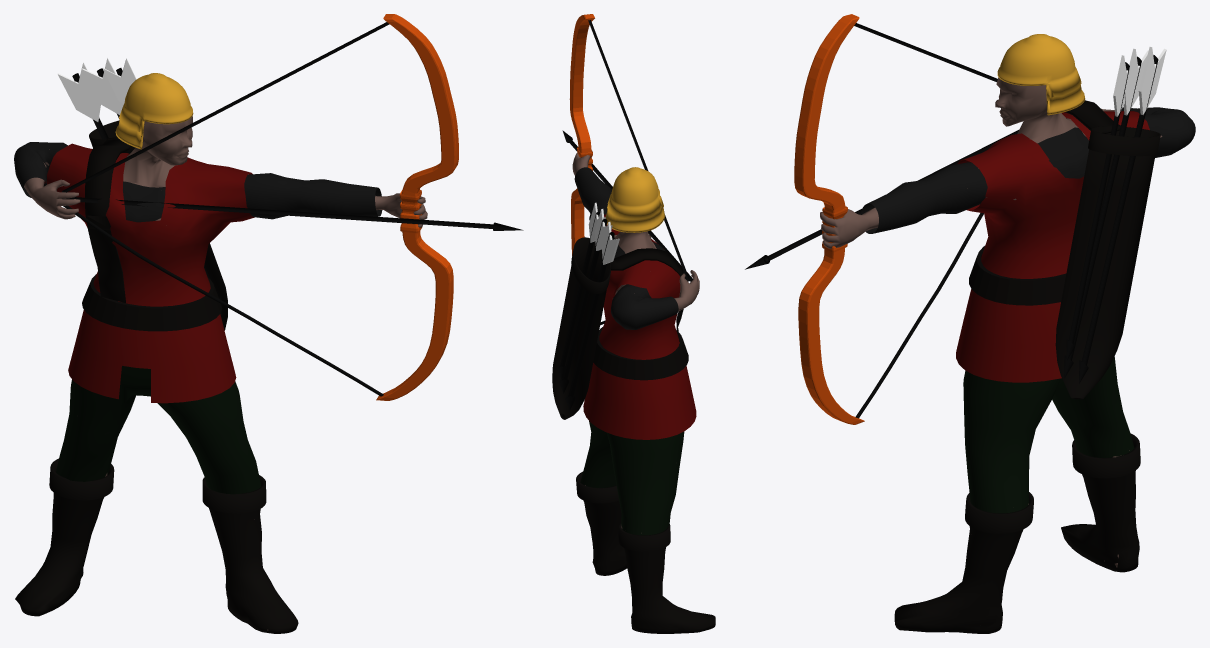
Rendered from archer7.obj.
3 views of the same model, side by side, from view 1: azimuth 30°, elevation 25°; view 2: azimuth 150°, elevation 25°; view 3: azimuth 270°, elevation 25° (orthographic). The views are drawn at different scales.
Parts seen in each view (by area): view 1: jacket_Circle.003_jacket, pants_Circle.002_pants, Cylinder_Cylinder_bow, boot_left_Circle.001_boot, boot_right_Circle_boot, Human.000_body.000_skin, Circle.004_Circle.004_armor, Plane.002_Plane.004_boot, Circle.006_Circle.006_boot, Circle.007_Circle.007_helmet, Cylinder.003_Cylinder.003_arrow, Circle.005_Circle.005_armor (+6 smaller); view 2: jacket_Circle.003_jacket, pants_Circle.002_pants, boot_right_Circle_boot, Circle.008_Circle.008_boot, Circle.007_Circle.007_helmet, boot_left_Circle.001_boot, Cylinder_Cylinder_bow, Circle.006_Circle.006_boot, Circle.005_Circle.005_armor, Human.000_body.000_skin, Circle.004_Circle.004_armor, Plane.002_Plane.004_boot (+8 smaller); view 3: jacket_Circle.003_jacket, pants_Circle.002_pants, Circle.008_Circle.008_boot, Cylinder_Cylinder_bow, boot_left_Circle.001_boot, boot_right_Circle_boot, Circle.004_Circle.004_armor, Human.000_body.000_skin, Circle.007_Circle.007_helmet, Circle.006_Circle.006_boot, Circle.005_Circle.005_armor, Cylinder.004_Cylinder.004_arrow (+9 smaller).
Boxes of the visible parts, x1,y1,x2,y2 form: jacket_Circle.003_jacket: [44, 143, 254, 403]; pants_Circle.002_pants: [56, 366, 261, 494]; Cylinder_Cylinder_bow: [376, 14, 458, 400]; boot_left_Circle.001_boot: [202, 475, 298, 633]; boot_right_Circle_boot: [15, 458, 114, 616]; Human.000_body.000_skin: [24, 116, 427, 630]; Circle.004_Circle.004_armor: [244, 173, 382, 219]; Plane.002_Plane.004_boot: [85, 137, 130, 302]; Circle.006_Circle.006_boot: [82, 274, 222, 331]; Circle.007_Circle.007_helmet: [115, 73, 193, 149]; Cylinder.003_Cylinder.003_arrow: [62, 197, 523, 230]; Circle.005_Circle.005_armor: [14, 142, 67, 197]; jacket_Circle.003_jacket: [583, 214, 696, 439]; pants_Circle.002_pants: [580, 421, 684, 535]; boot_right_Circle_boot: [618, 522, 715, 633]; Circle.008_Circle.008_boot: [552, 237, 610, 419]; Circle.007_Circle.007_helmet: [605, 167, 664, 232]; boot_left_Circle.001_boot: [576, 471, 627, 575]; Cylinder_Cylinder_bow: [569, 14, 594, 255]; Circle.006_Circle.006_boot: [593, 327, 688, 380]; Circle.005_Circle.005_armor: [611, 284, 678, 329]; Human.000_body.000_skin: [572, 152, 699, 533]; Circle.004_Circle.004_armor: [574, 167, 611, 220]; Plane.002_Plane.004_boot: [607, 248, 686, 348]; jacket_Circle.003_jacket: [956, 111, 1149, 382]; pants_Circle.002_pants: [963, 356, 1134, 513]; Circle.008_Circle.008_boot: [1055, 126, 1160, 399]; Cylinder_Cylinder_bow: [794, 14, 864, 424]; boot_left_Circle.001_boot: [894, 492, 1033, 633]; boot_right_Circle_boot: [1061, 433, 1140, 572]; Circle.004_Circle.004_armor: [860, 162, 987, 233]; Human.000_body.000_skin: [820, 77, 1162, 567]; Circle.007_Circle.007_helmet: [997, 34, 1085, 115]; Circle.006_Circle.006_boot: [969, 246, 1066, 305]; Circle.005_Circle.005_armor: [1121, 107, 1195, 157]; Cylinder.004_Cylinder.004_arrow: [1079, 55, 1158, 383].
Bounding box in the file's own units: 1.36 × 2.33 × 1.45.
